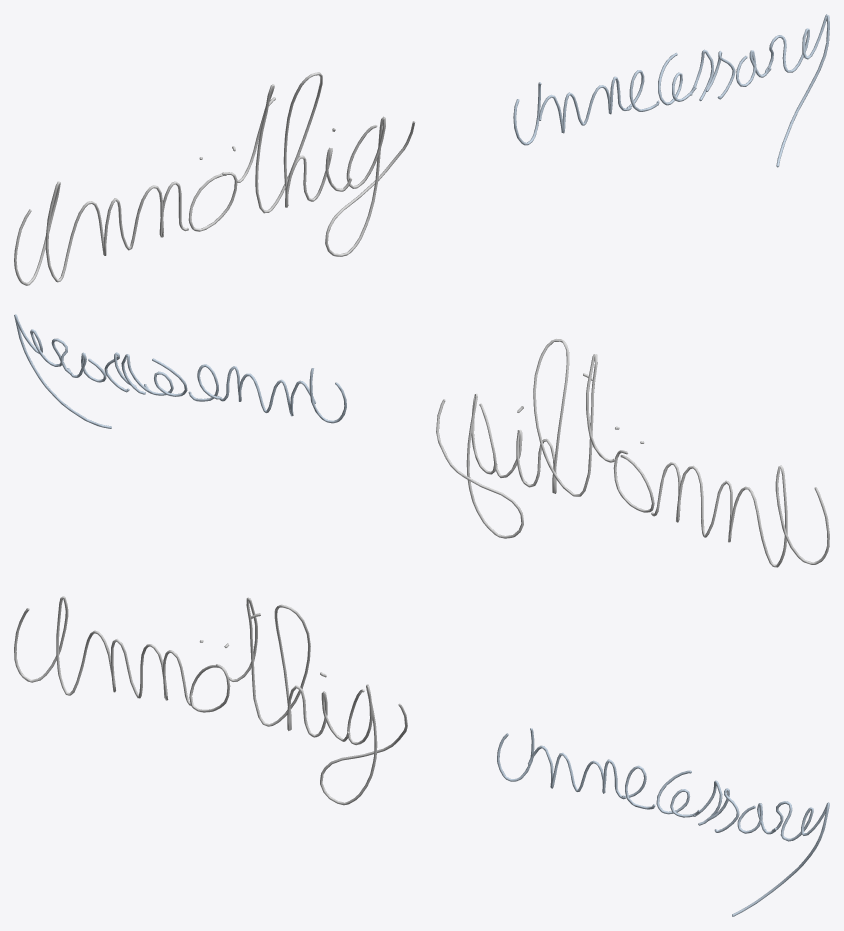
The model's file is unnothig.glb.
3 renders of one model, top to bottom at view 1: azimuth 30°, elevation 25°; view 2: azimuth 150°, elevation 25°; view 3: azimuth 330°, elevation 25°, orthographic. The views are drawn at different scales.
Parts seen in each view (by area): view 1: Mesh_0.009; view 2: Mesh_0.009; view 3: Mesh_0.009.
Boxes of the visible parts, x1,y1,x2,y2 form: Mesh_0.009: (14, 14, 829, 285); Mesh_0.009: (14, 314, 829, 567); Mesh_0.009: (14, 596, 829, 916).
Bounding box in the file's own units: 3.29 × 0.7828 × 0.2085.
